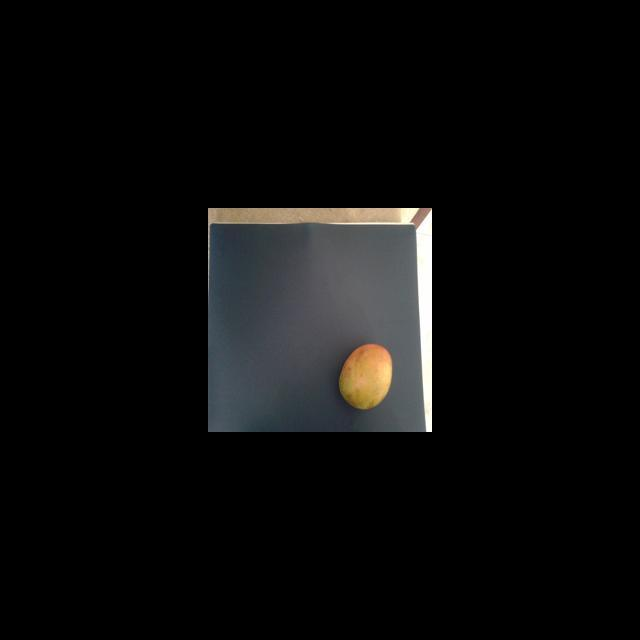Mango: (338, 342, 392, 410)
